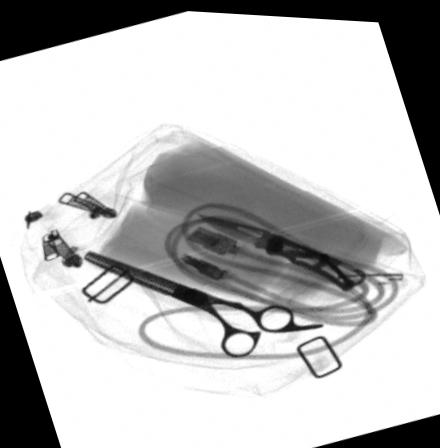Knife: (193, 208, 367, 286)
Scissors: (82, 249, 323, 355)
